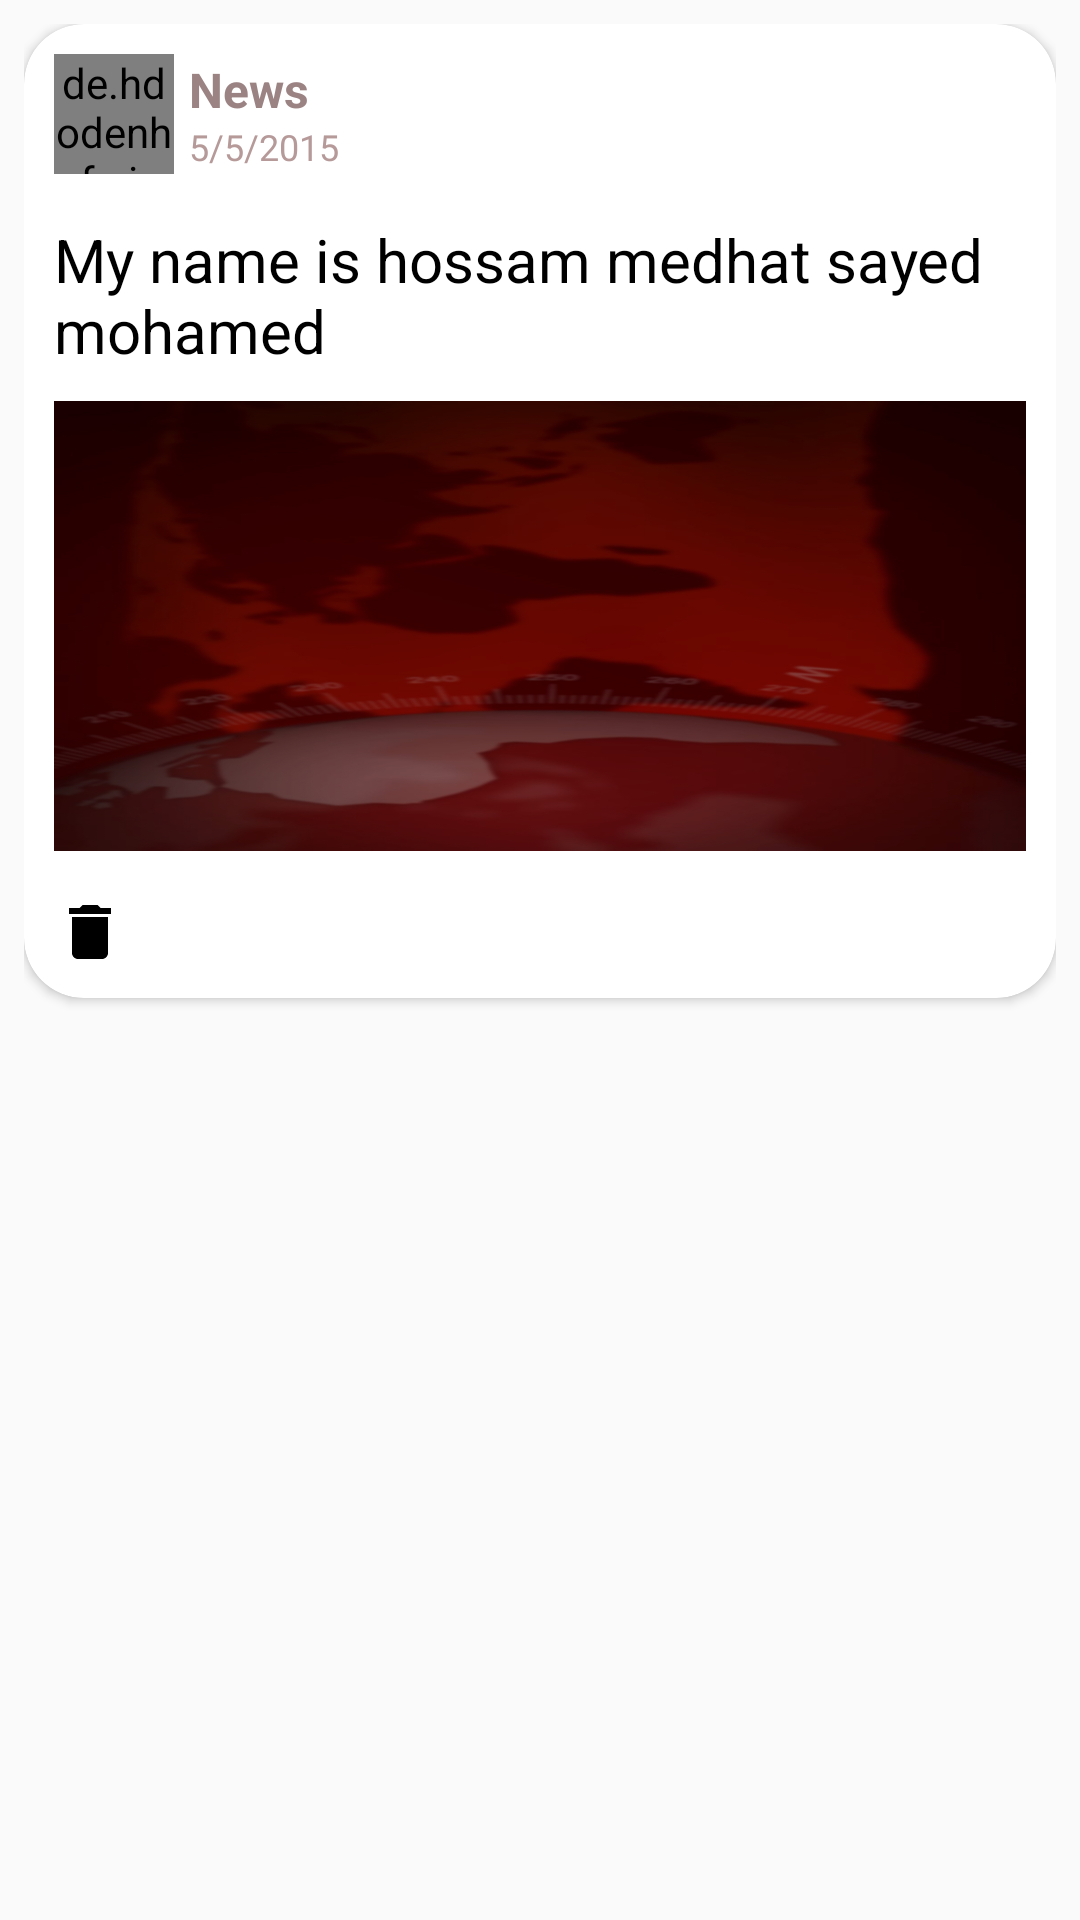

Where to tap for icons on this 1080x1920 app screen, as [x,y]:
delete: [90,932]
